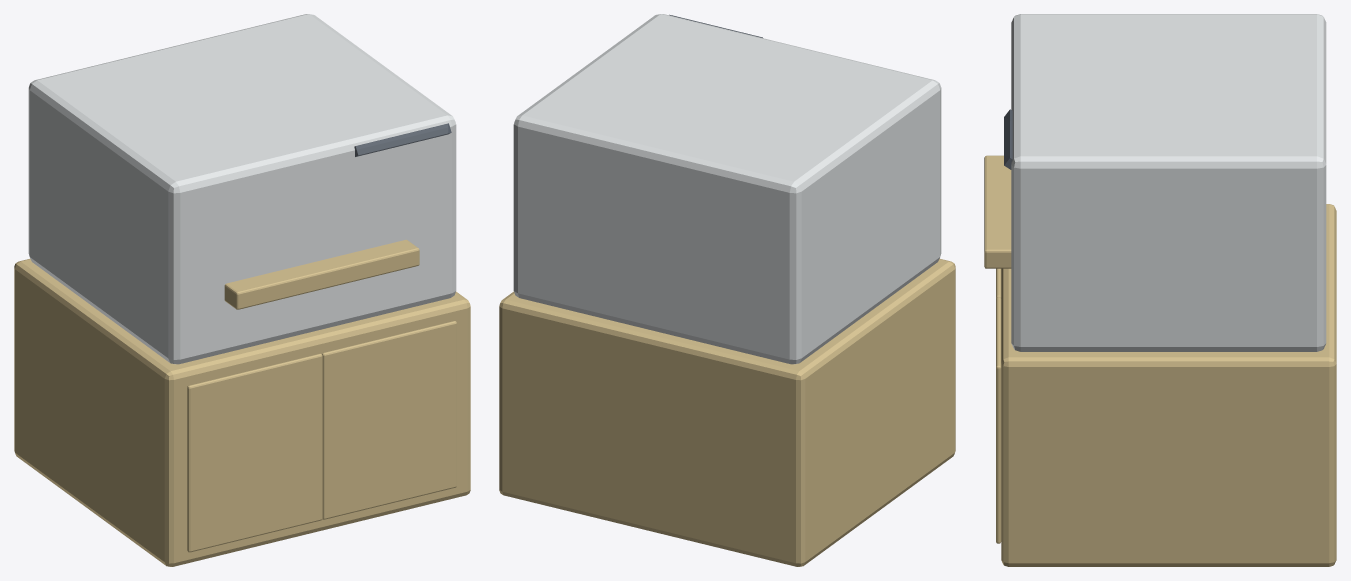
Rendered from print___utility_office_asset_library_30.glb.
The picture shows the model from 3 angles, left to right: view 1: azimuth 30°, elevation 25°; view 2: azimuth 150°, elevation 25°; view 3: azimuth 270°, elevation 25°; orthographic projection. The views are drawn at different scales.
Parts seen in each view (by area): view 1: Cube; view 2: Cube; view 3: Cube.
Boxes of the visible parts, x1,y1,x2,y2 form: Cube: (14, 14, 470, 566); Cube: (499, 14, 955, 566); Cube: (984, 14, 1336, 566).
Bounding box in the file's own units: 0.72 × 0.8526 × 0.672.
